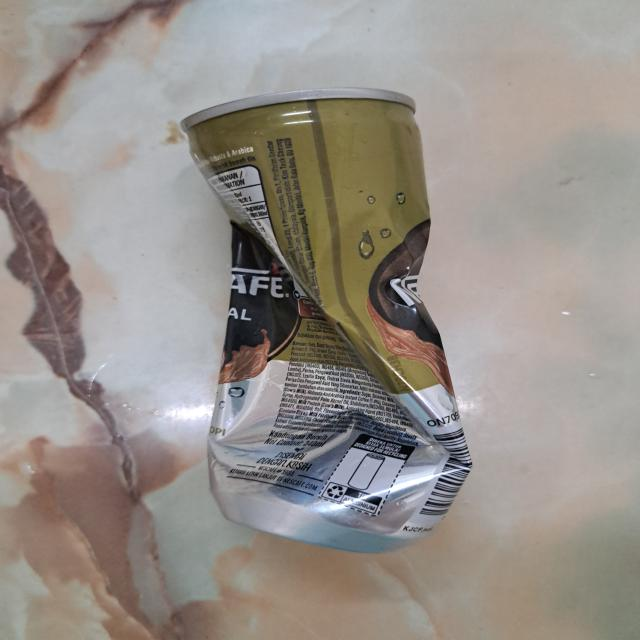can: (183, 86, 475, 554)
